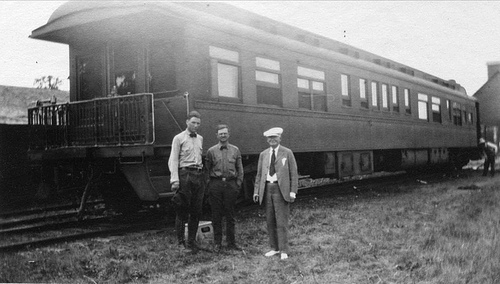without_mask: (184, 115, 202, 135), (265, 133, 283, 149), (214, 128, 232, 144)
